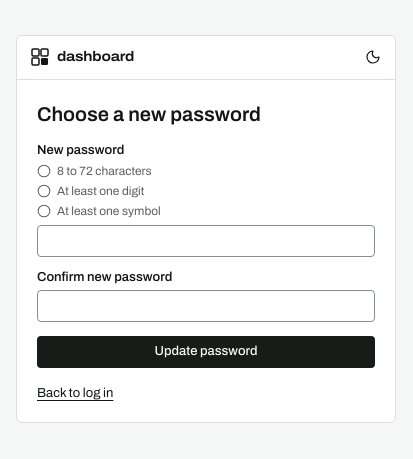
ResetPasswordPage › shows an inline error and makes no request for a password failing the pattern
Type "telemetry" into the password field labelled "New password" at (206, 241), box [37,225,375,257]
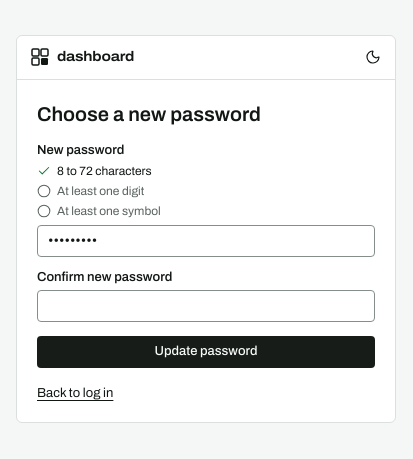
Type "telemetry" into the password field labelled "Confirm new password" at (206, 306), box [37,290,375,322]
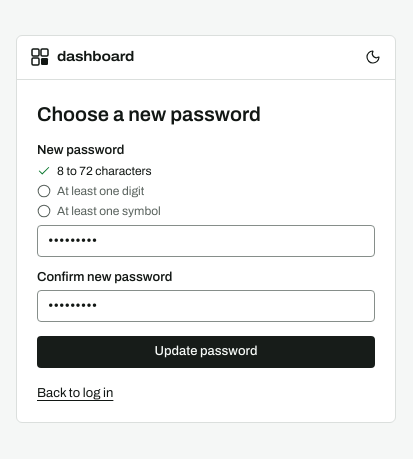
Click the button "Update password" at (206, 352), box [37,336,375,368]
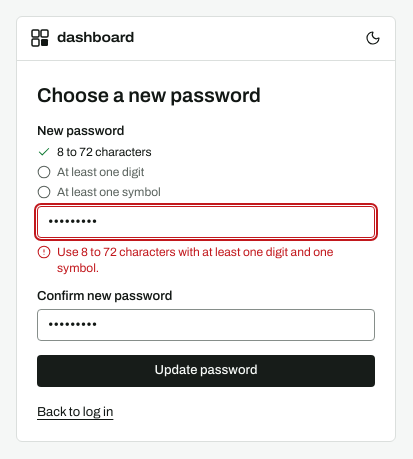
Now the text "Use 8 to 72 characters" is shown, box [57,245,333,275]
